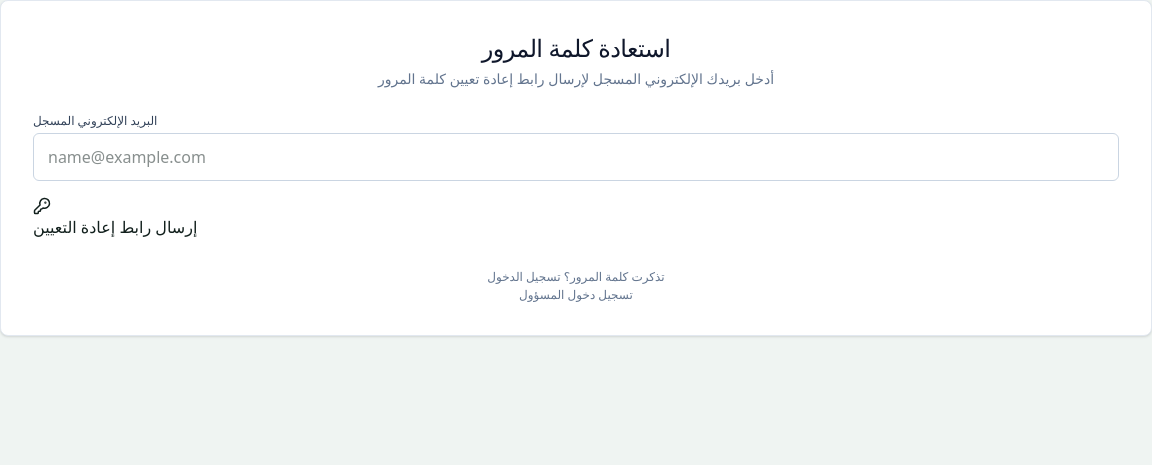
Test: US4 recovery › keeps recovery neutral and offers both role destinations
In the field labelled "البريد الإلكتروني المسجل": (576, 157) [33,133,1119,181], type "ADMIN@EXAMPLE.TEST"
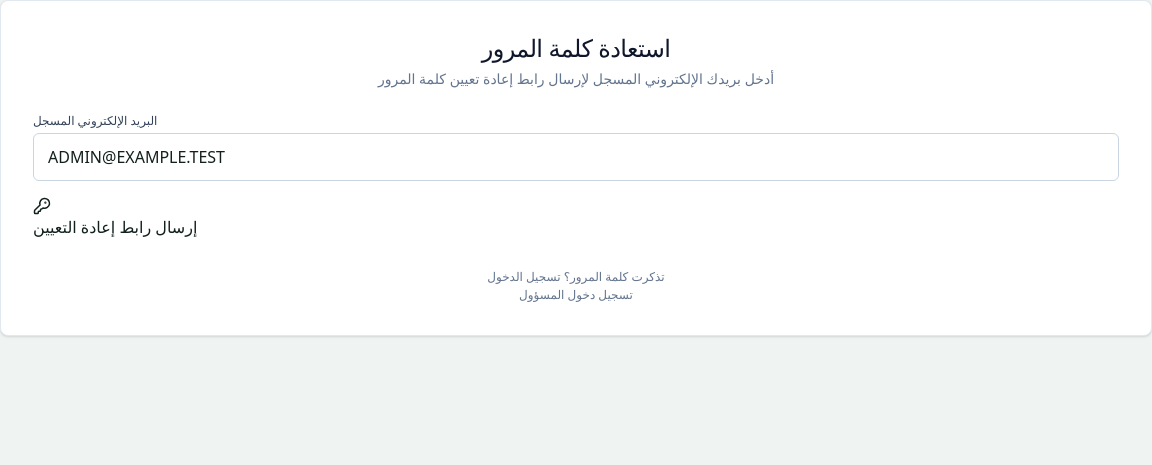
Submit the form "إرسال رابط إعادة التعيين", box [33,113,1119,303]
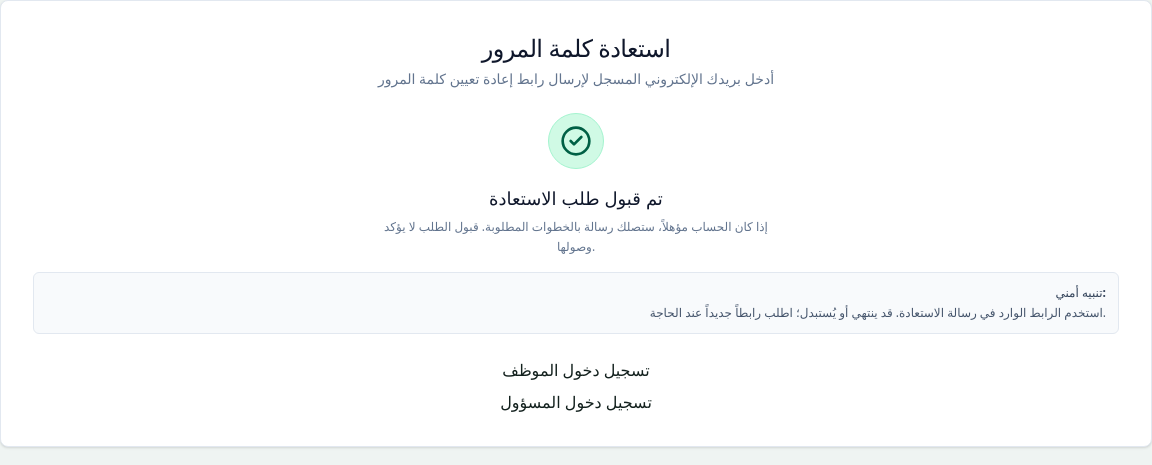
Now the message shows "قبول الطلب لا يؤكد وصولها", box [384,218,768,254]
